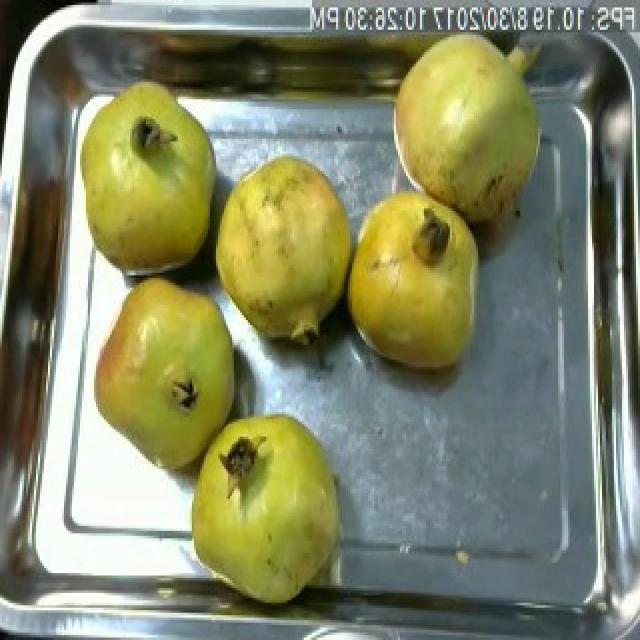fruit: (64, 57, 232, 290), (178, 397, 352, 613), (82, 263, 252, 481), (382, 20, 550, 231), (204, 138, 360, 362), (340, 179, 490, 387)
